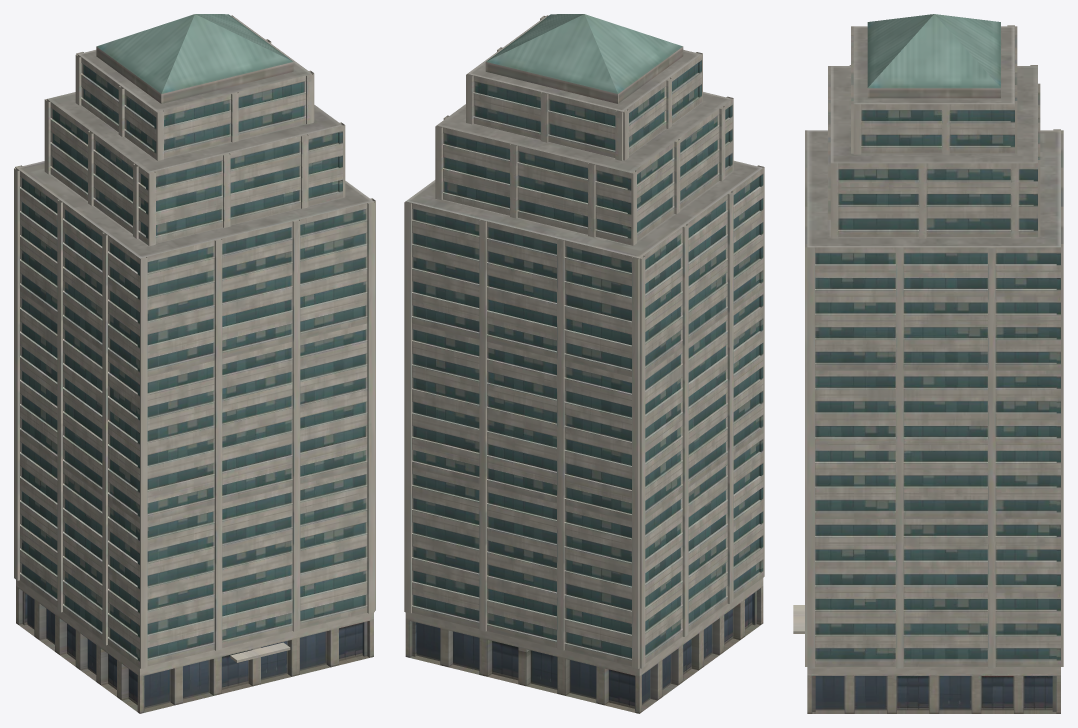
The model's file is sf_glassslab_b.glb.
3 views of the same model, side by side, from view 1: azimuth 30°, elevation 25°; view 2: azimuth 150°, elevation 25°; view 3: azimuth 270°, elevation 25° (orthographic). The views are drawn at different scales.
Parts seen in each view (by area): view 1: sf_glassslab_b; view 2: sf_glassslab_b; view 3: sf_glassslab_b.
Boxes of the visible parts, <box> form: sf_glassslab_b: <box>14,14,375,713</box>; sf_glassslab_b: <box>404,14,764,713</box>; sf_glassslab_b: <box>793,14,1063,713</box>.
Size of the model in its own units: 40.3 by 101 by 38.65.
Materials: 1 (1 with a texture image).
